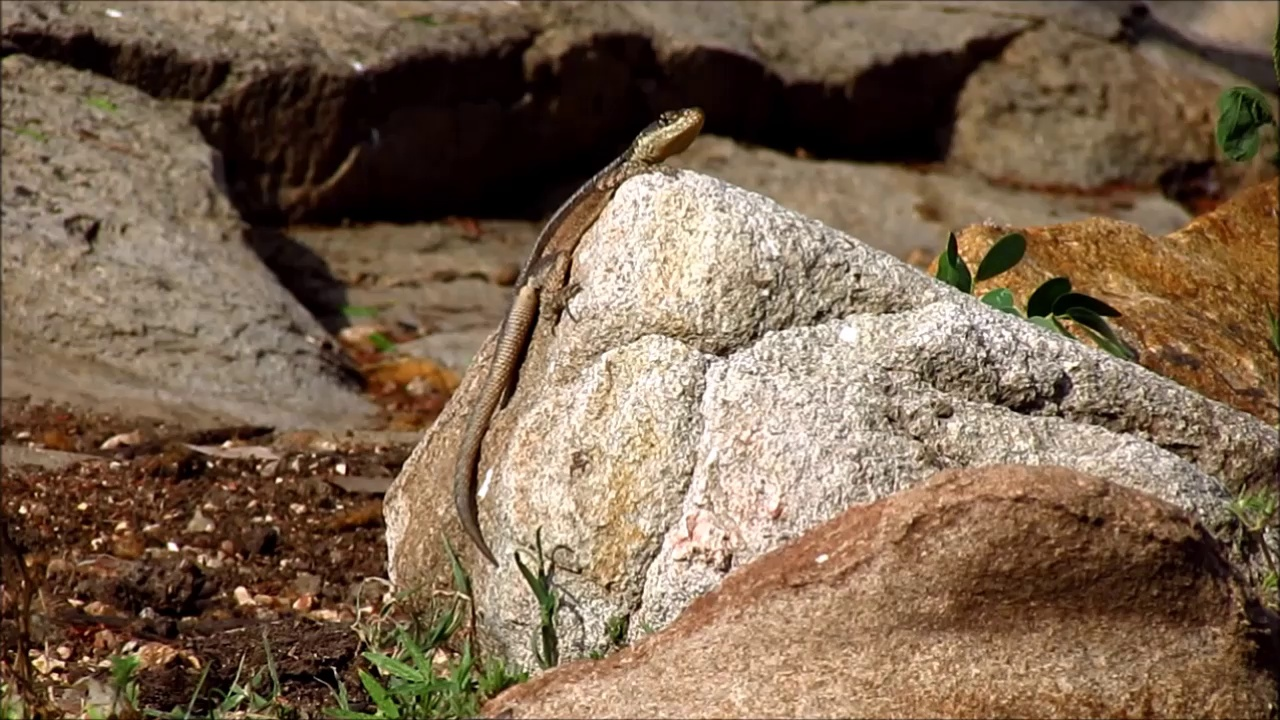body: (454, 143, 633, 568)
head: (633, 107, 701, 167)
